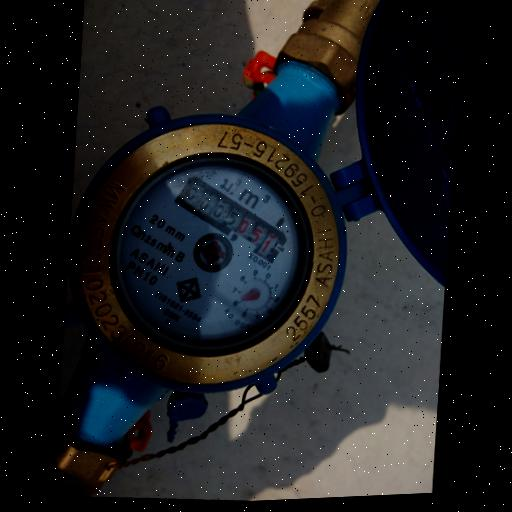0: (208, 196, 233, 225), (194, 188, 219, 216), (232, 213, 257, 241), (179, 178, 203, 205)
1: (253, 228, 283, 261)
5: (221, 205, 244, 232), (245, 223, 268, 249)
border_water_meter_number: (168, 169, 294, 271)
